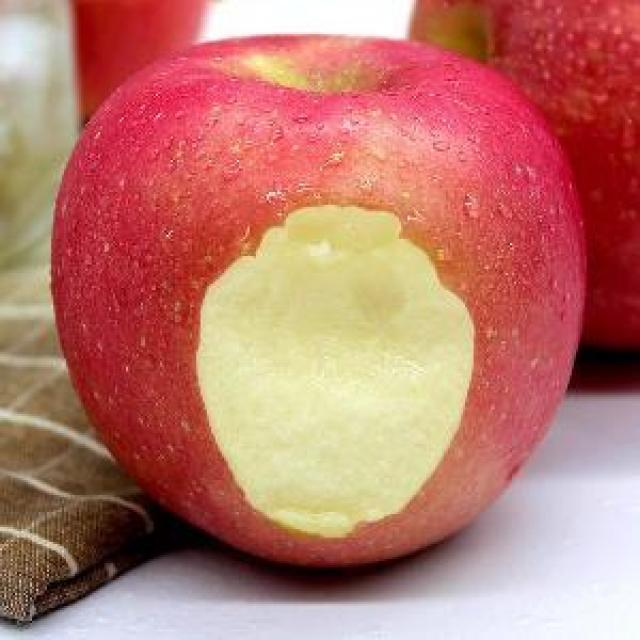Rotten: (52, 36, 596, 592)
